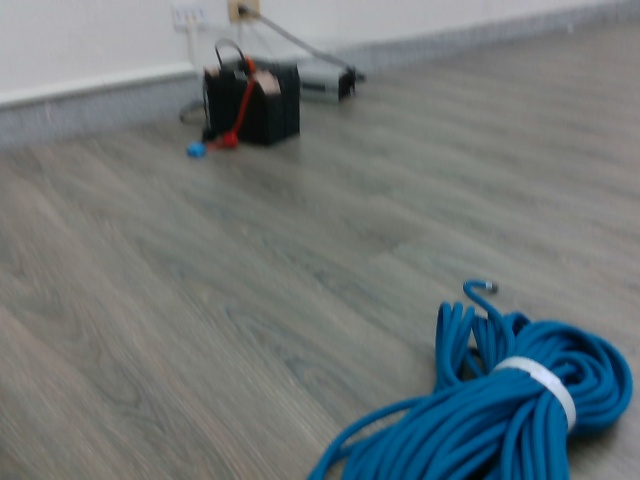rope: (308, 294, 633, 480)
